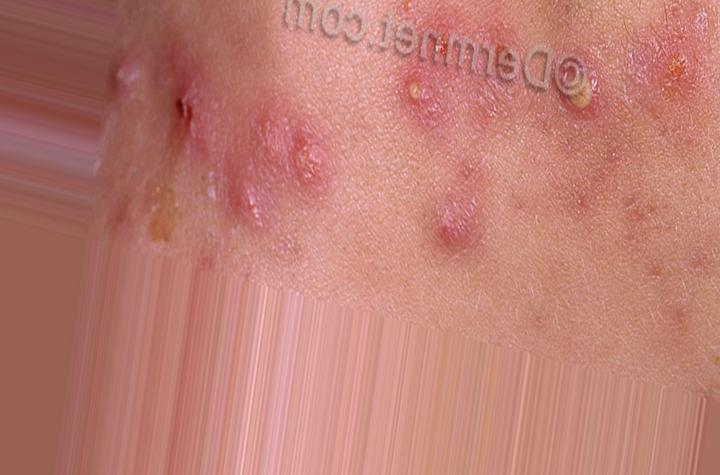Acne: (433, 168, 534, 286), (360, 69, 461, 152), (525, 46, 609, 145), (142, 87, 245, 156), (102, 50, 186, 133), (218, 136, 273, 233), (279, 126, 331, 223)
